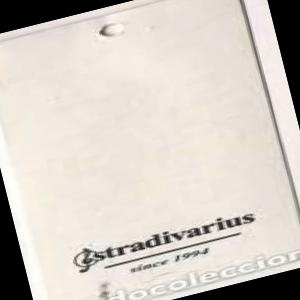stradivarius: (241, 99, 286, 297)
